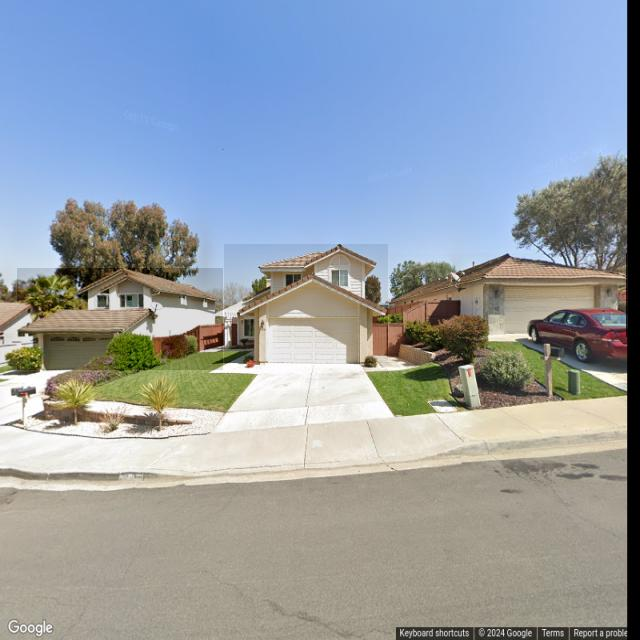House: (17, 268, 223, 370), (390, 253, 628, 337), (224, 244, 388, 363), (0, 302, 41, 366)
